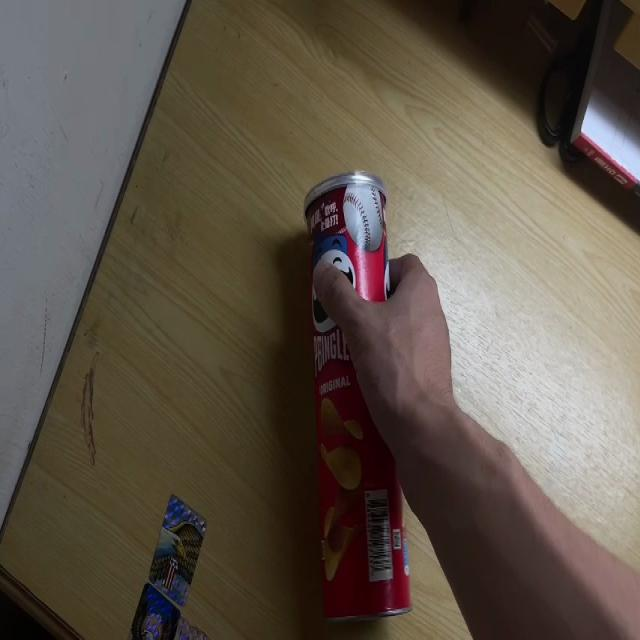Pringles: (304, 159, 412, 622)
